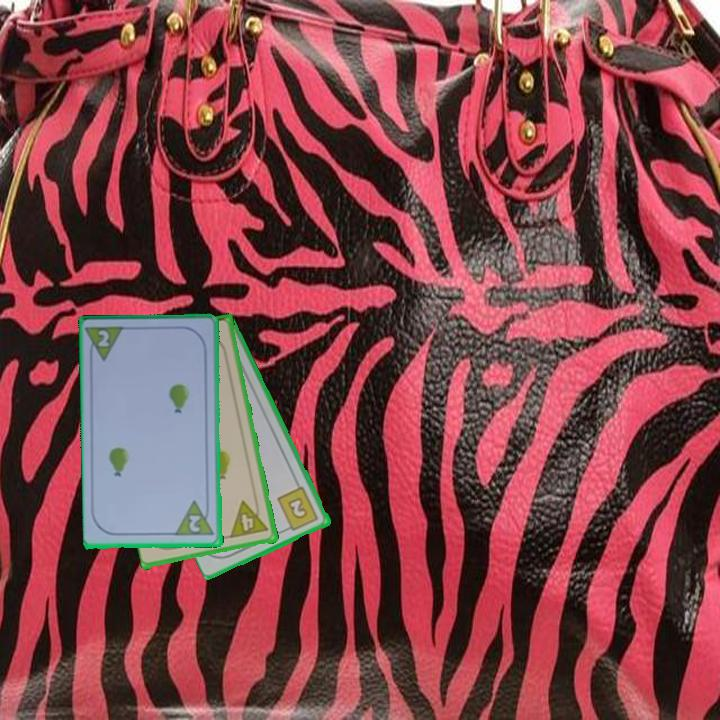2b: (274, 483, 321, 534)
2p: (84, 323, 128, 365), (186, 511, 204, 535)
4p: (227, 496, 272, 541)
